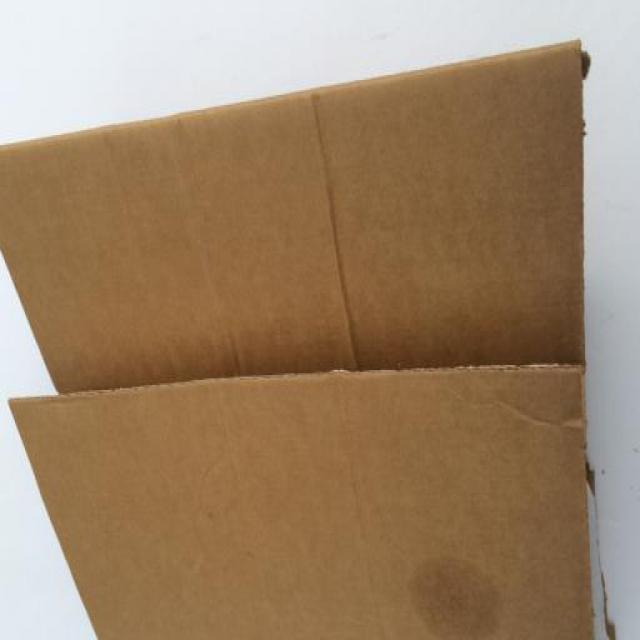cardboard: (1, 54, 616, 640)
